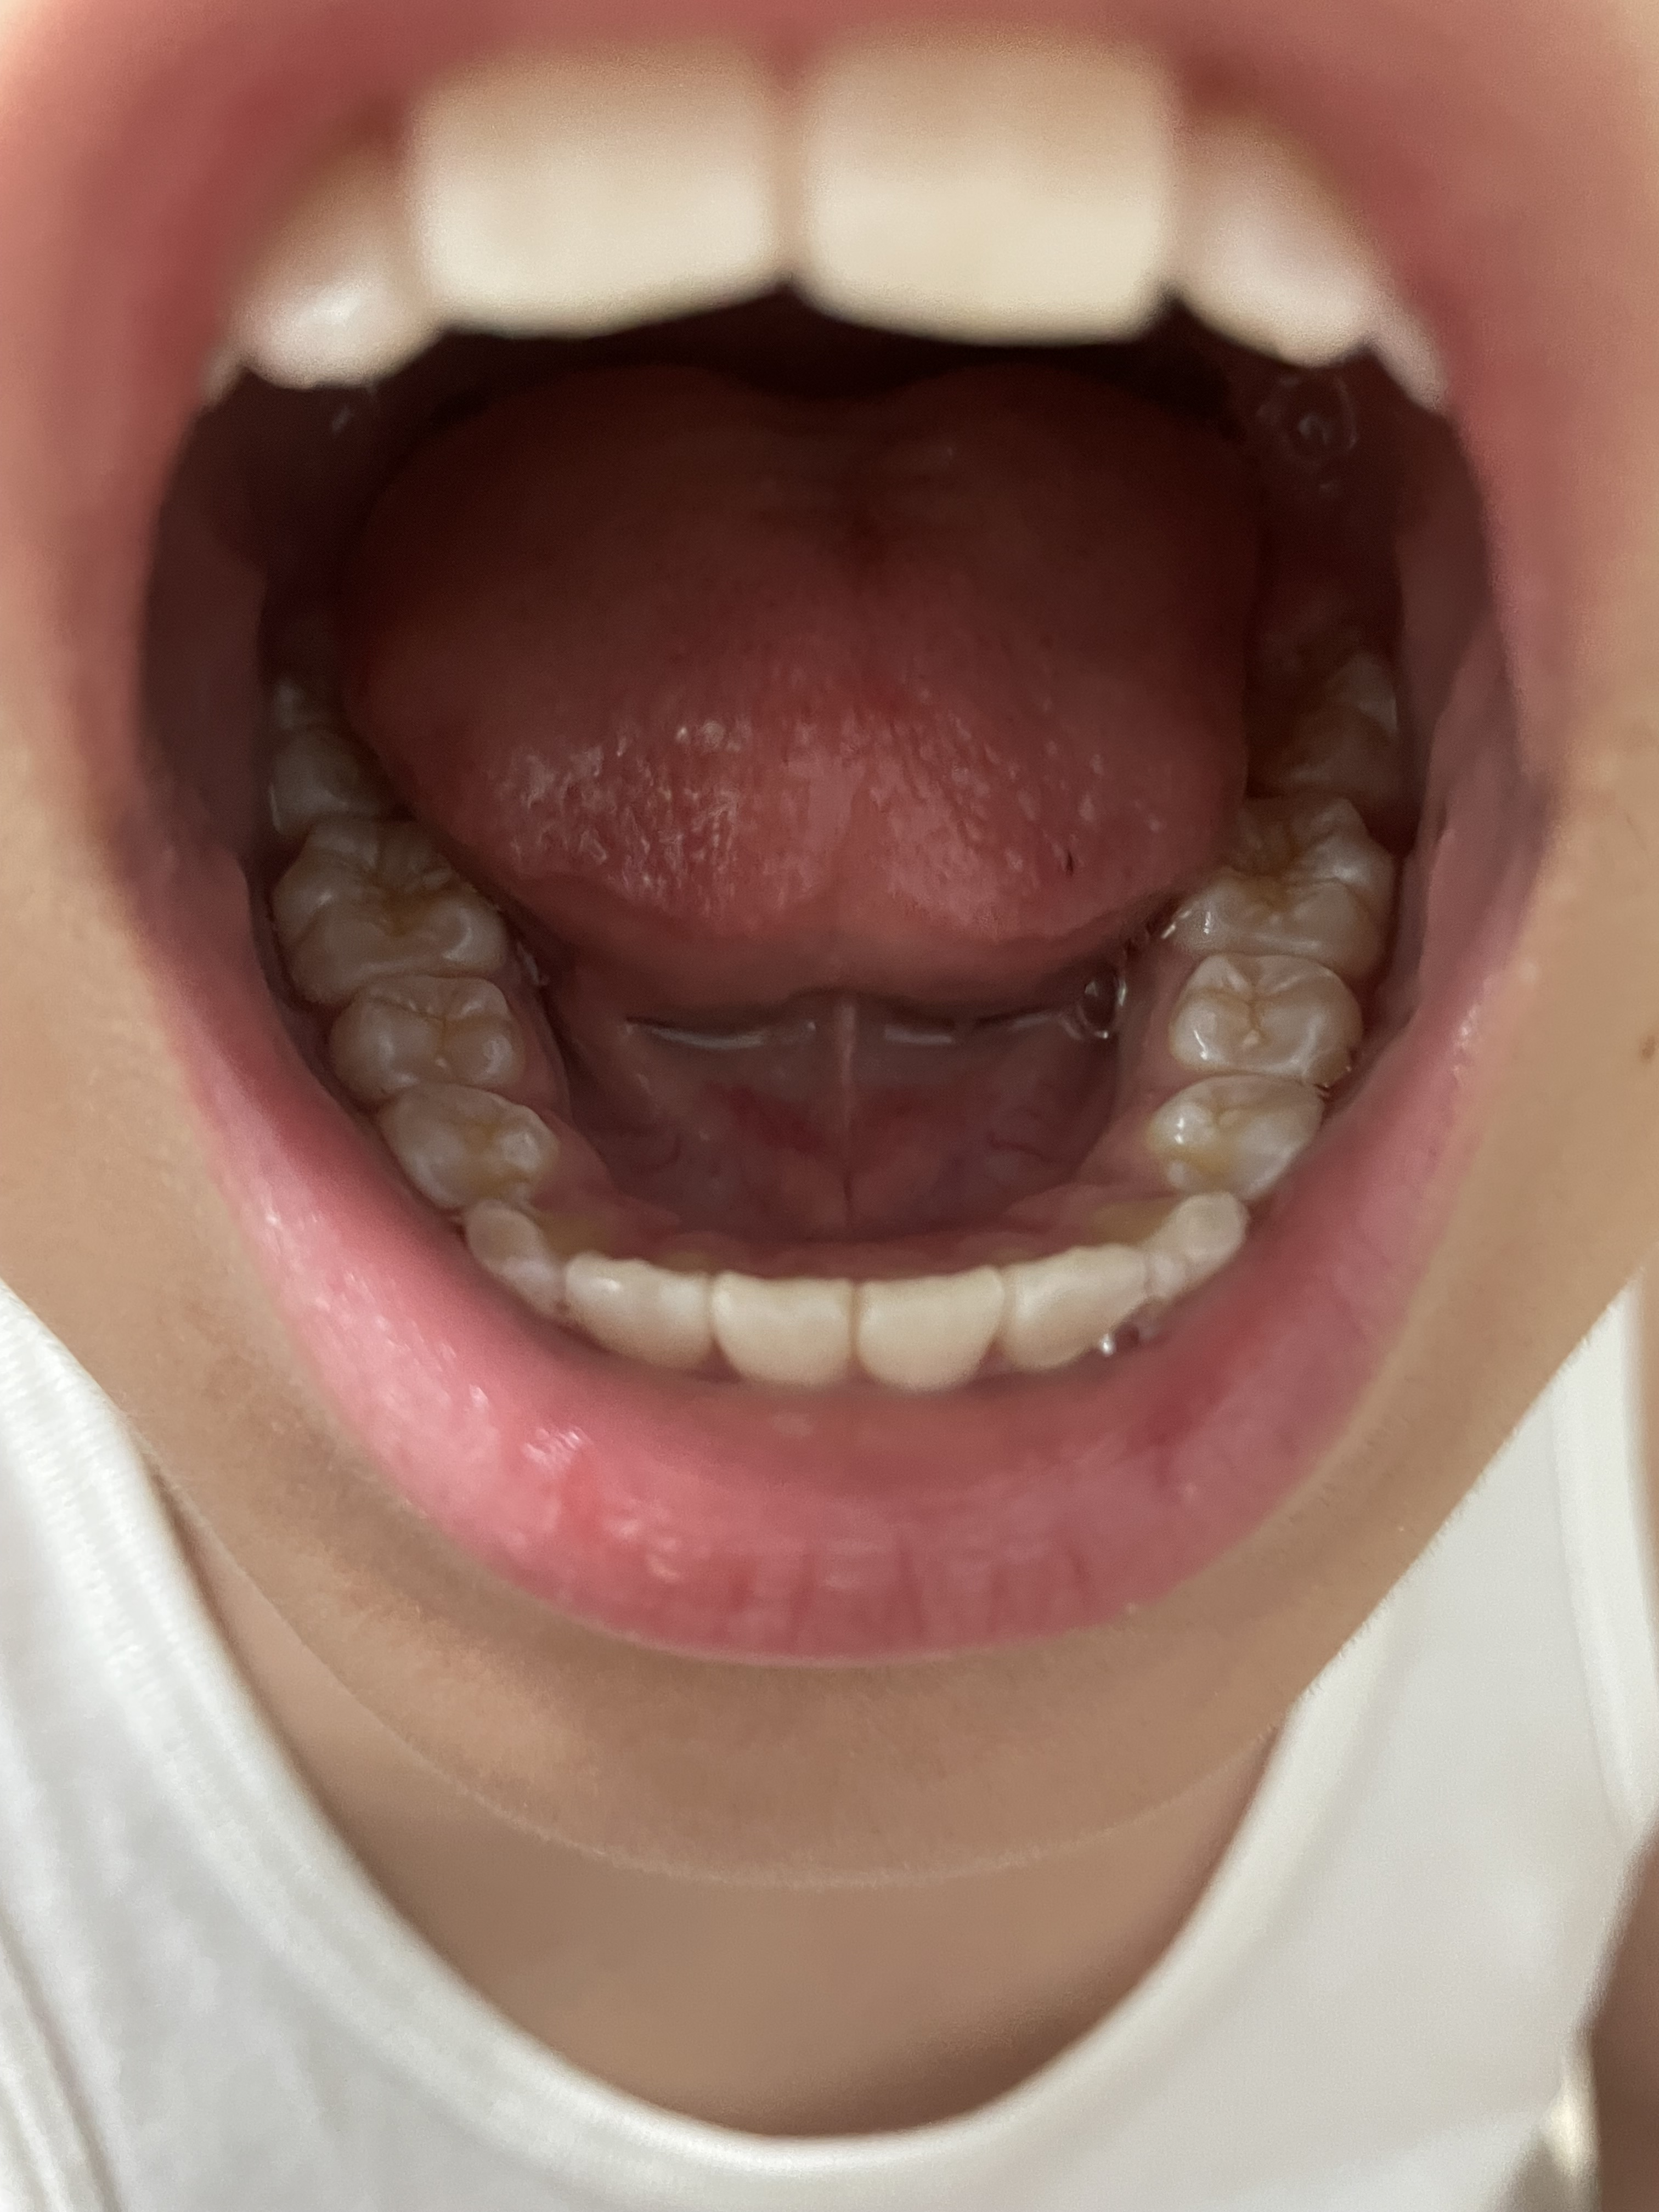teeth: (805, 47, 1157, 317), (408, 52, 765, 310), (1173, 799, 1380, 970), (263, 827, 477, 988), (1175, 958, 1359, 1080), (338, 979, 516, 1103), (1147, 1089, 1330, 1198), (457, 1209, 615, 1322), (577, 1252, 702, 1376), (376, 1113, 533, 1209), (1014, 1254, 1134, 1364), (735, 1273, 845, 1385), (1126, 1205, 1241, 1303), (884, 1285, 1004, 1374)
